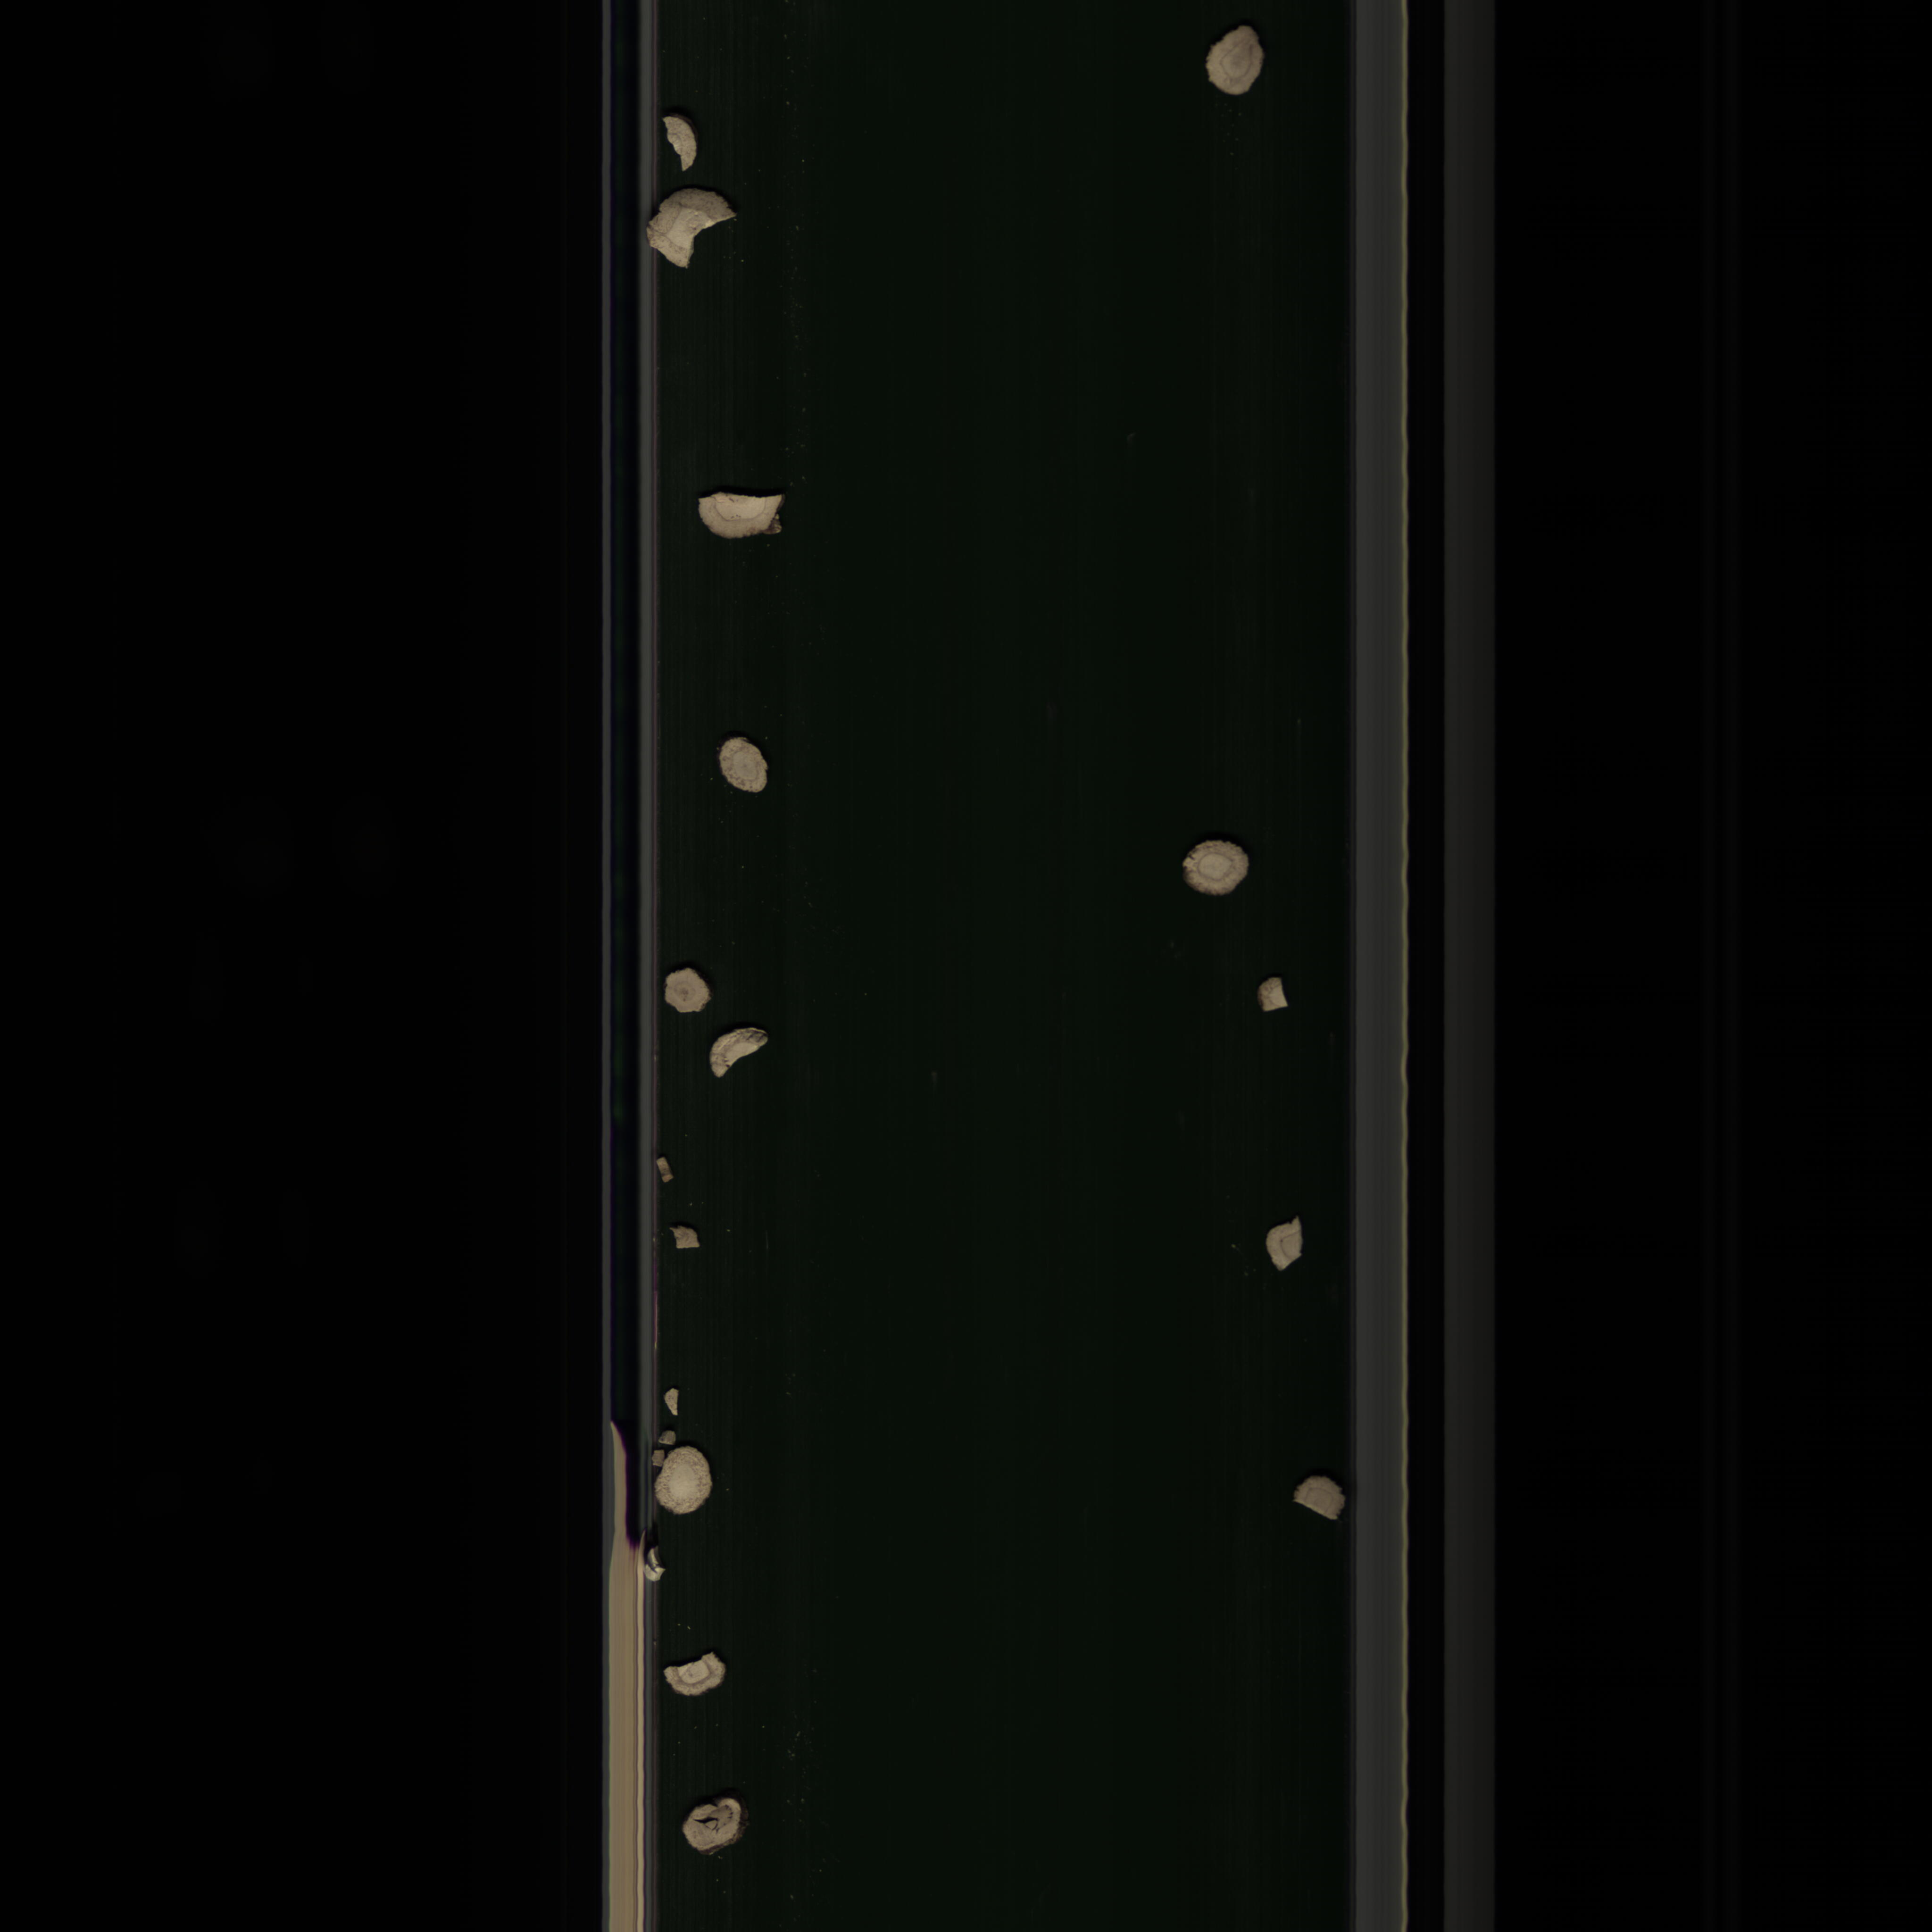debris: (640, 188, 747, 269), (692, 483, 787, 548), (655, 1647, 750, 1707), (706, 1026, 773, 1081), (1292, 1470, 1350, 1529), (1261, 1212, 1313, 1277), (656, 110, 704, 172), (1254, 973, 1295, 1021), (663, 1217, 709, 1258)
hole: (672, 1790, 752, 1858)
